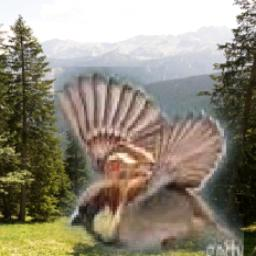Sparrow: (54, 67, 244, 256)
